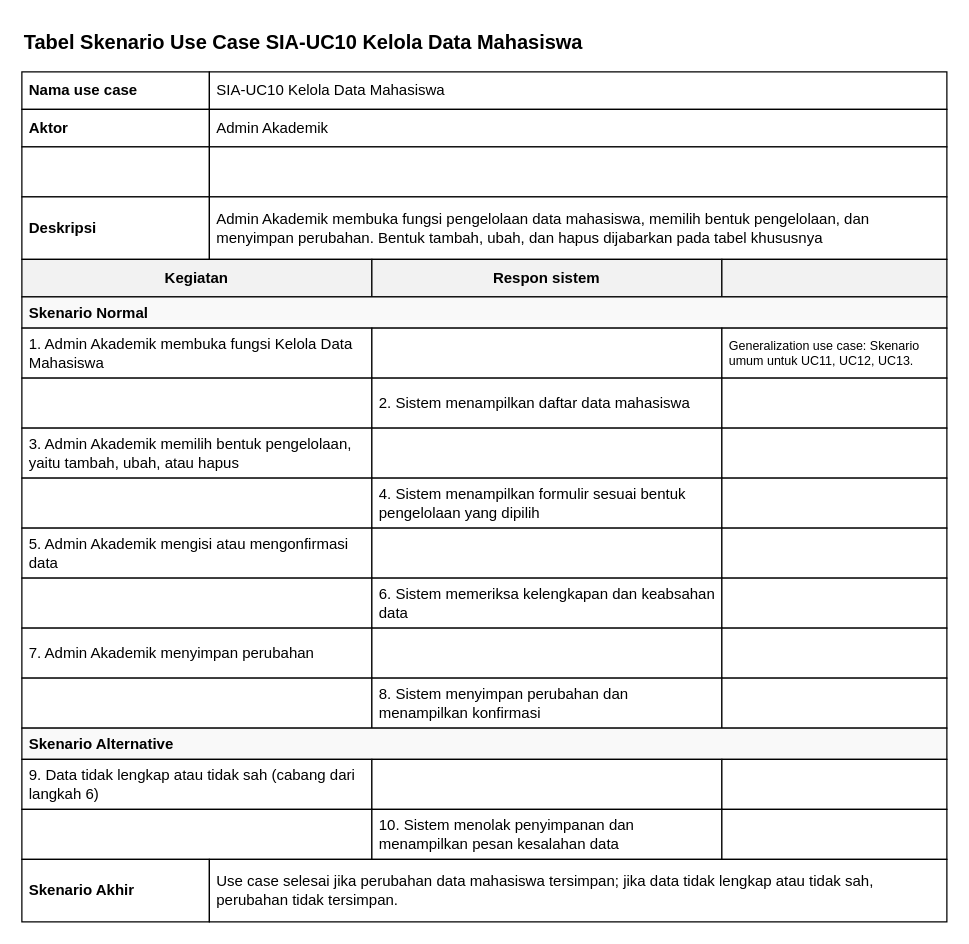
The diagram is 969 pixels wide and 944 high, and some of its shapes have lost their labels. The shapes that lost their labels are listed below. From the top down, each one's centre as x and y in pixels, then its label:
point 115,171: Tujuan
point 577,171: Data mahasiswa terkelola melalui satu fungsi pengelolaan bersama
point 834,277: Penelusuran Relasi
